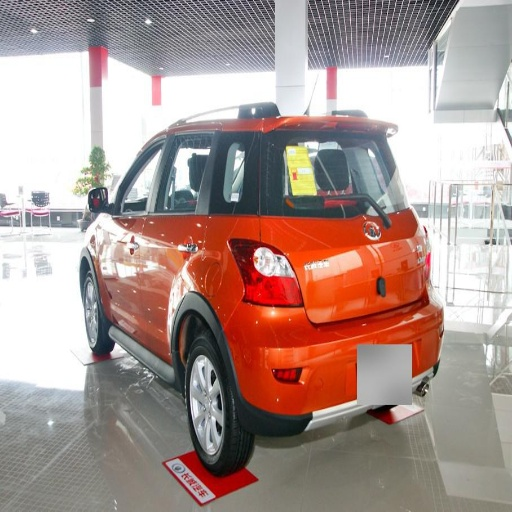back_bumper: (229, 299, 439, 434)
back_glass: (188, 134, 391, 214)
back_left_door: (142, 172, 187, 342)
tailgate: (293, 265, 371, 322)
trunk: (186, 214, 423, 324)
